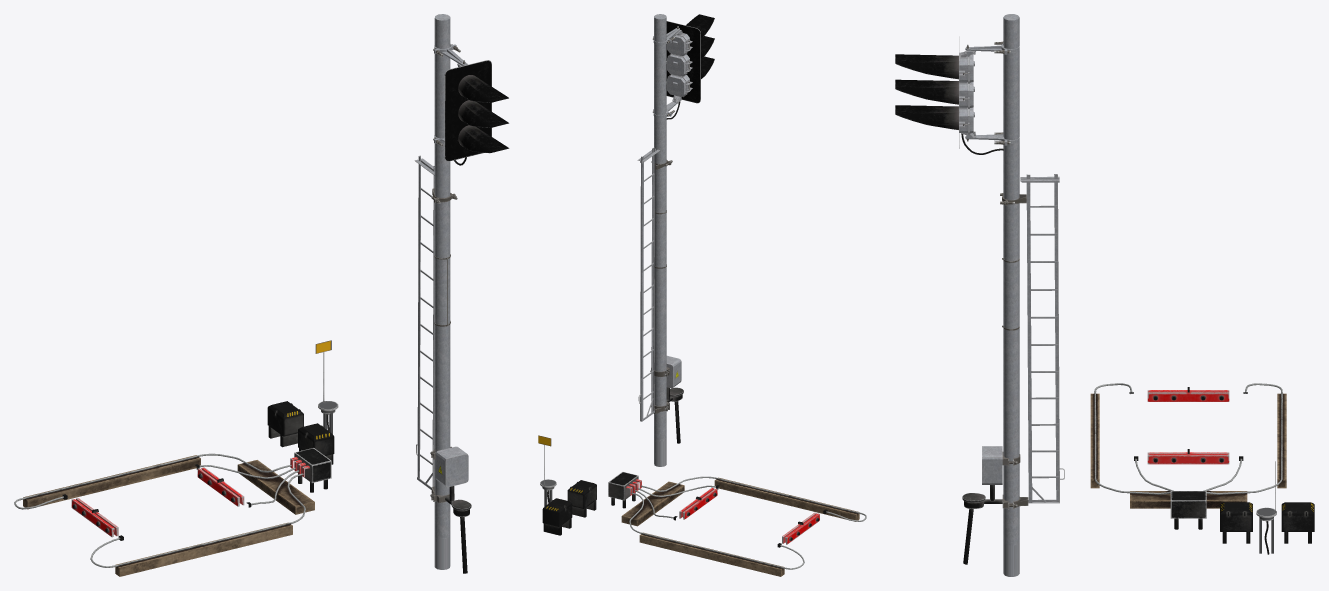
File: RM_sig_P_MM1_YRG_3_exit.gltf
3 views of the same model, side by side, from view 1: azimuth 30°, elevation 25°; view 2: azimuth 150°, elevation 25°; view 3: azimuth 270°, elevation 25° (orthographic). The views are drawn at different scales.
Visible parts, largest first — view 1: Светофор 3, Изостык; view 2: Светофор 3, Изостык; view 3: Светофор 3, Изостык.
Boxes of the visible parts, box(x1,y1,x2,y2) form: Светофор 3: box(414, 14, 509, 573); Изостык: box(14, 340, 338, 576); Светофор 3: box(637, 14, 714, 466); Изостык: box(538, 435, 866, 576); Светофор 3: box(895, 14, 1064, 576); Изостык: box(1090, 383, 1314, 554).
Bounding box in the file's own units: 4.1 × 6.66 × 4.55.
Materials: 2 (2 with a texture image).
